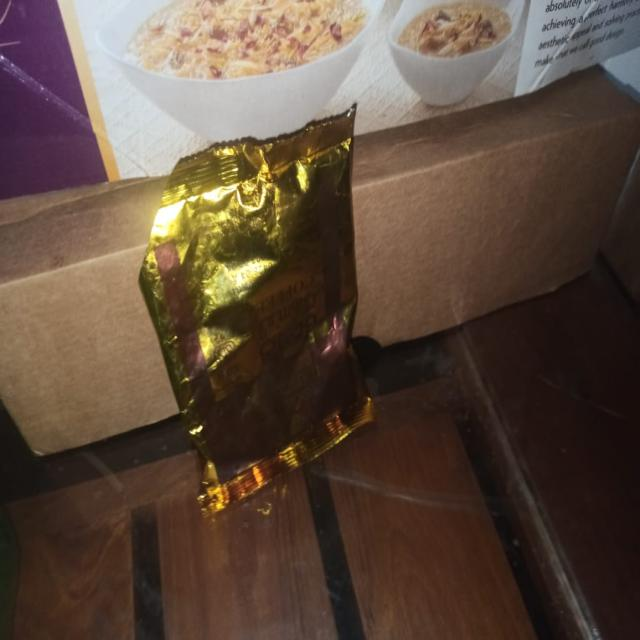Harischandra Coffee: (120, 155, 392, 489)
